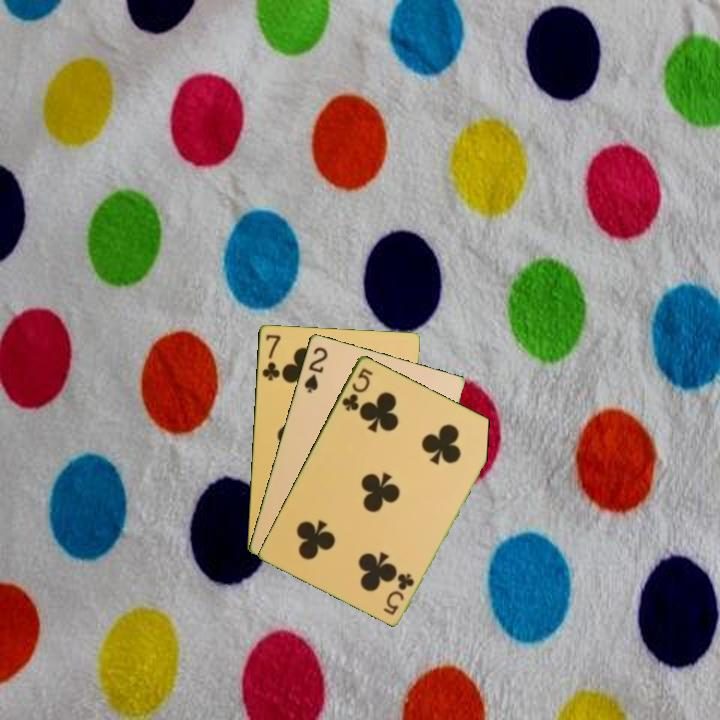2s: (300, 343, 330, 395)
5c: (338, 364, 375, 414), (381, 569, 417, 618)
7c: (258, 330, 283, 383)
